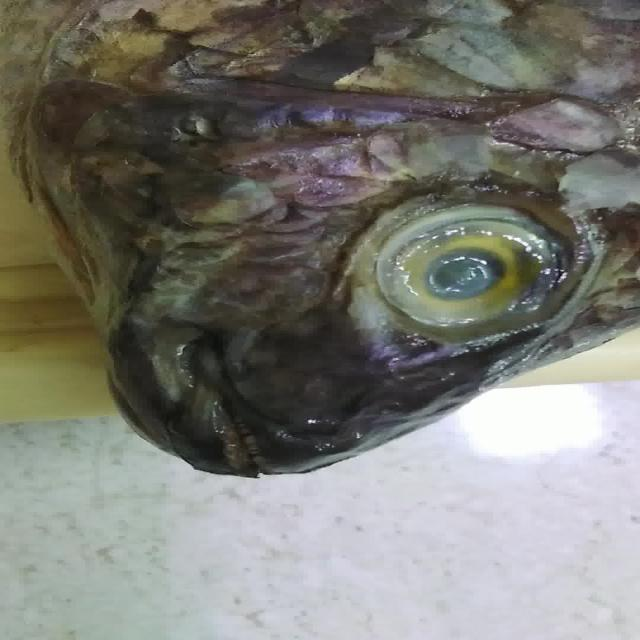Non-Fresh: (375, 181, 567, 358)
